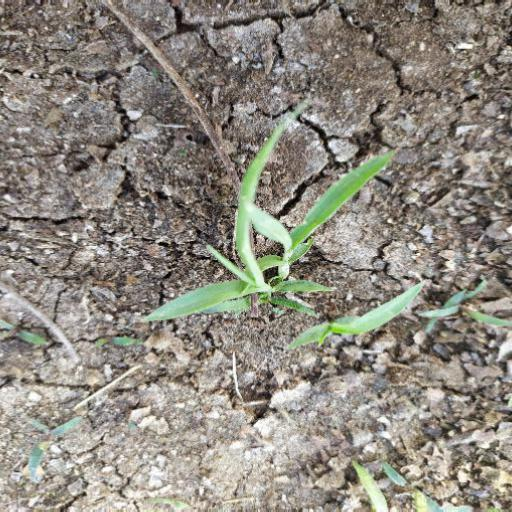weed: (91, 104, 422, 362)
